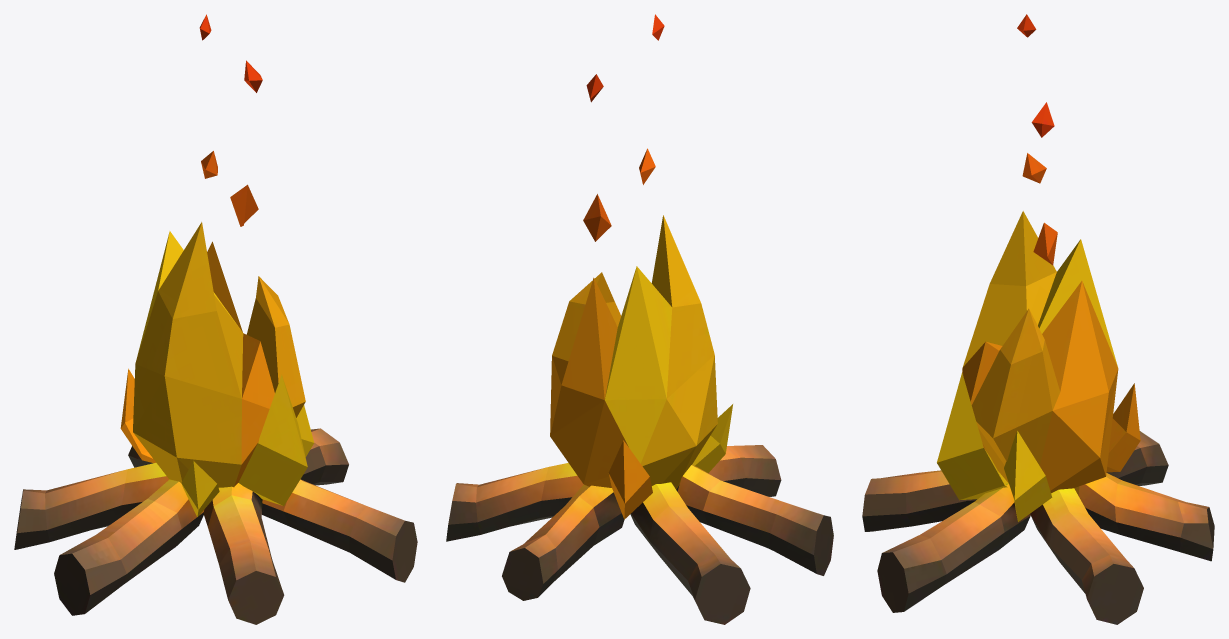
File: brazier_free.glb
The picture shows the model from 3 angles, left to right: view 1: azimuth 30°, elevation 25°; view 2: azimuth 150°, elevation 25°; view 3: azimuth 270°, elevation 25°; orthographic projection. The views are drawn at different scales.
Visible parts, largest first — view 1: campfire; view 2: campfire; view 3: campfire.
Boxes of the visible parts, x1,y1,x2,y2 form: campfire: (14,14,417,624); campfire: (446,14,833,624); campfire: (862,14,1214,624).
Size of the model in its own units: 1.68 by 2.67 by 1.59.
Materials: 1 (1 with a texture image).
